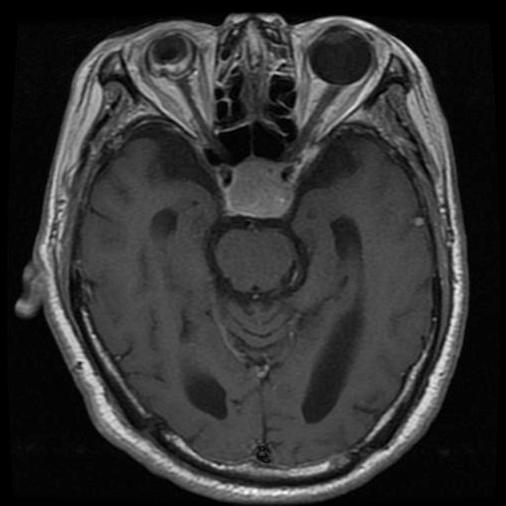Tumour-Pituitary: (212, 155, 303, 227)
